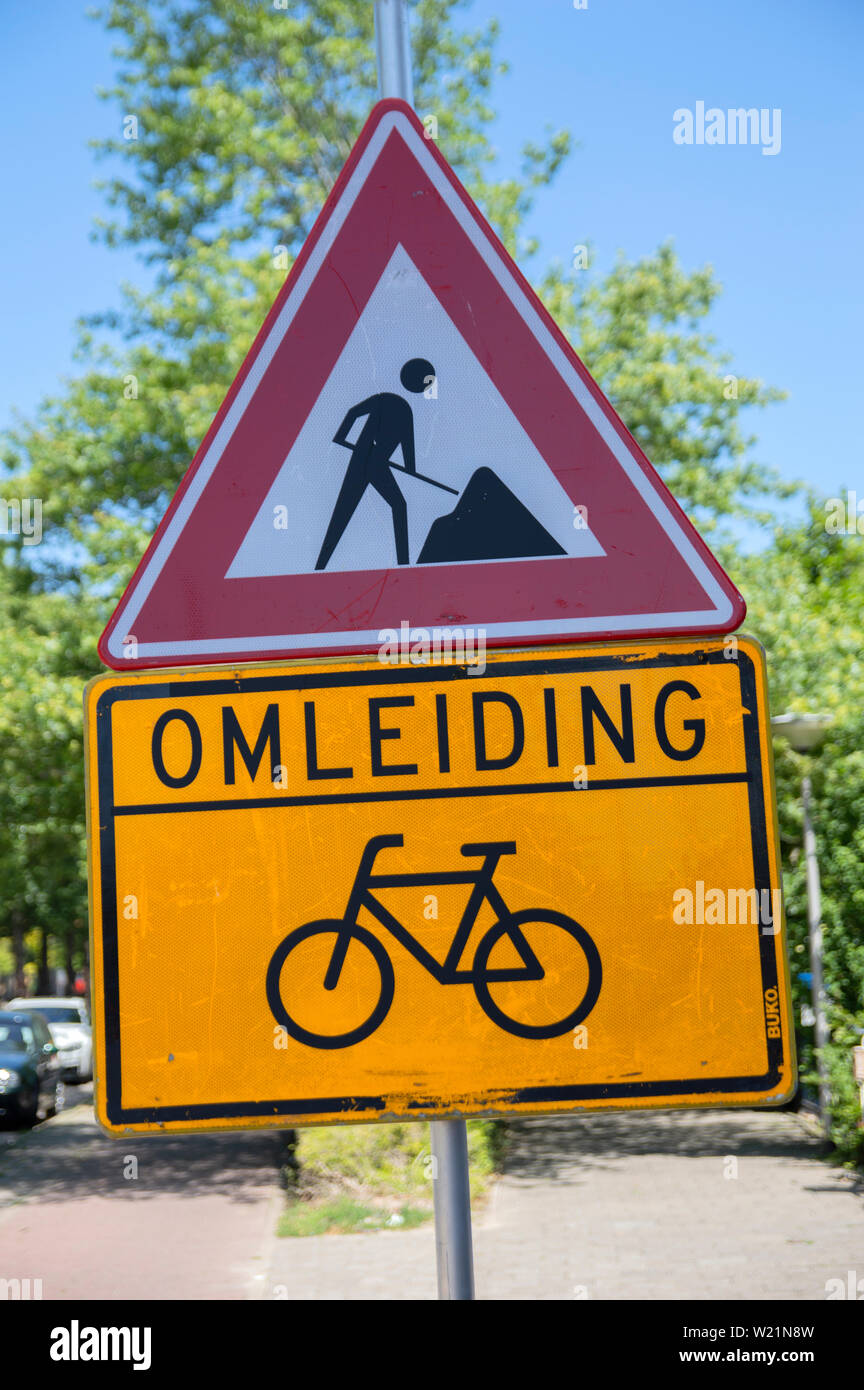caution: (96, 98, 735, 635)
